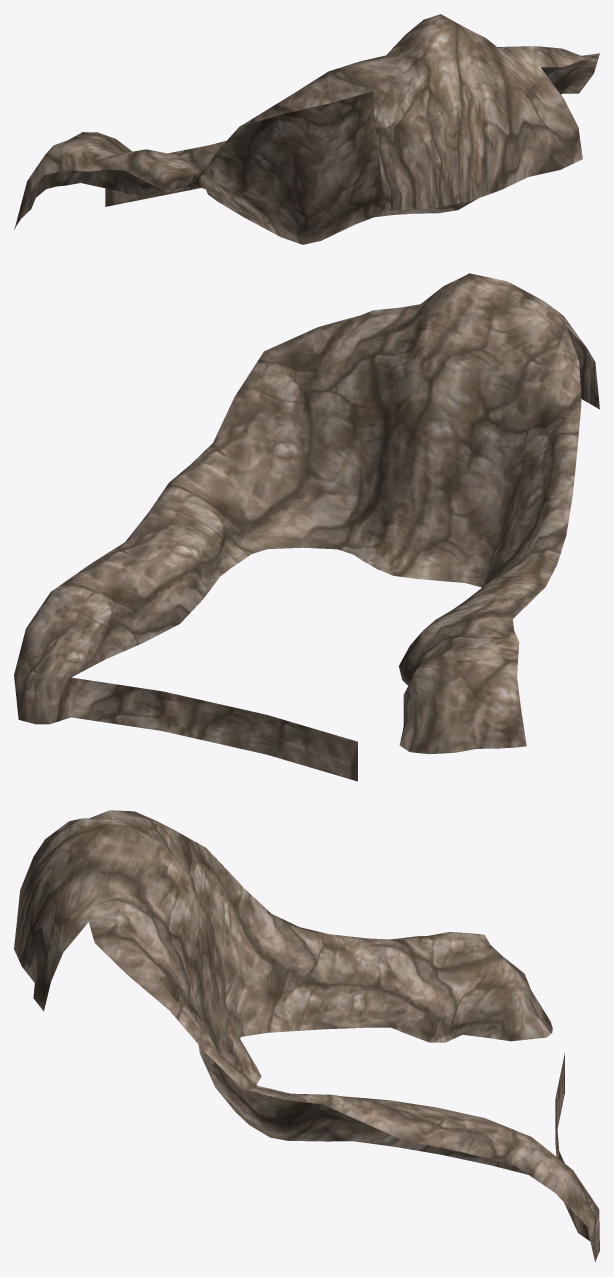
The model's file is EKH_THRONE_PS_TH_THRONE_DAM_03.fbx.
The picture shows the model from 3 angles, top to bottom: view 1: azimuth 30°, elevation 25°; view 2: azimuth 150°, elevation 25°; view 3: azimuth 270°, elevation 25°; orthographic projection. The views are drawn at different scales.
Visible parts, largest first — view 1: EKH_THRONE_PS_TH_THRONE_DAM_03; view 2: EKH_THRONE_PS_TH_THRONE_DAM_03; view 3: EKH_THRONE_PS_TH_THRONE_DAM_03.
Part boxes in pixels (x1=…): EKH_THRONE_PS_TH_THRONE_DAM_03: x1=14, y1=14, x2=599, y2=244; EKH_THRONE_PS_TH_THRONE_DAM_03: x1=14, y1=273, x2=599, y2=781; EKH_THRONE_PS_TH_THRONE_DAM_03: x1=14, y1=810, x2=599, y2=1262.
Bounding box in the file's own units: 109083 × 72136 × 115587.
Materials: 1 (1 with a texture image).
